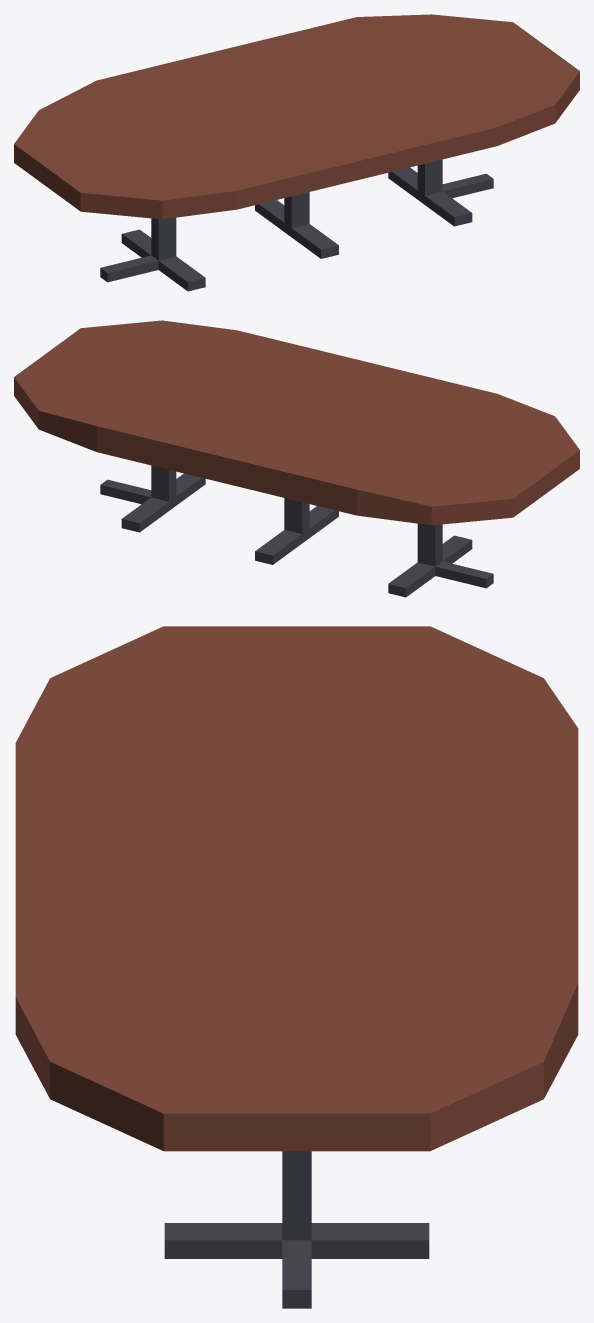
The model's file is big_table.glb.
3 views of the same model, one above another, from view 1: azimuth 30°, elevation 25°; view 2: azimuth 150°, elevation 25°; view 3: azimuth 270°, elevation 25° (orthographic). The views are drawn at different scales.
Parts seen in each view (by area): view 1: MeetingTable.002; view 2: MeetingTable.002; view 3: MeetingTable.002.
Part boxes in pixels (left/top/right/bottom): MeetingTable.002: left=14, top=14, right=579, bottom=291; MeetingTable.002: left=14, top=320, right=579, bottom=597; MeetingTable.002: left=15, top=626, right=578, bottom=1308.
Size of the model in its own units: 3.32 by 0.8405 by 1.62.
Materials: 1 (1 with a texture image).
